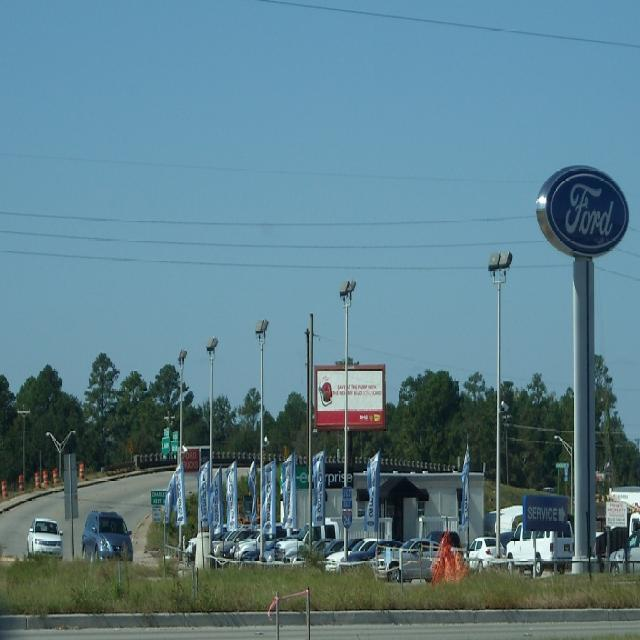ford: (534, 163, 636, 263)
